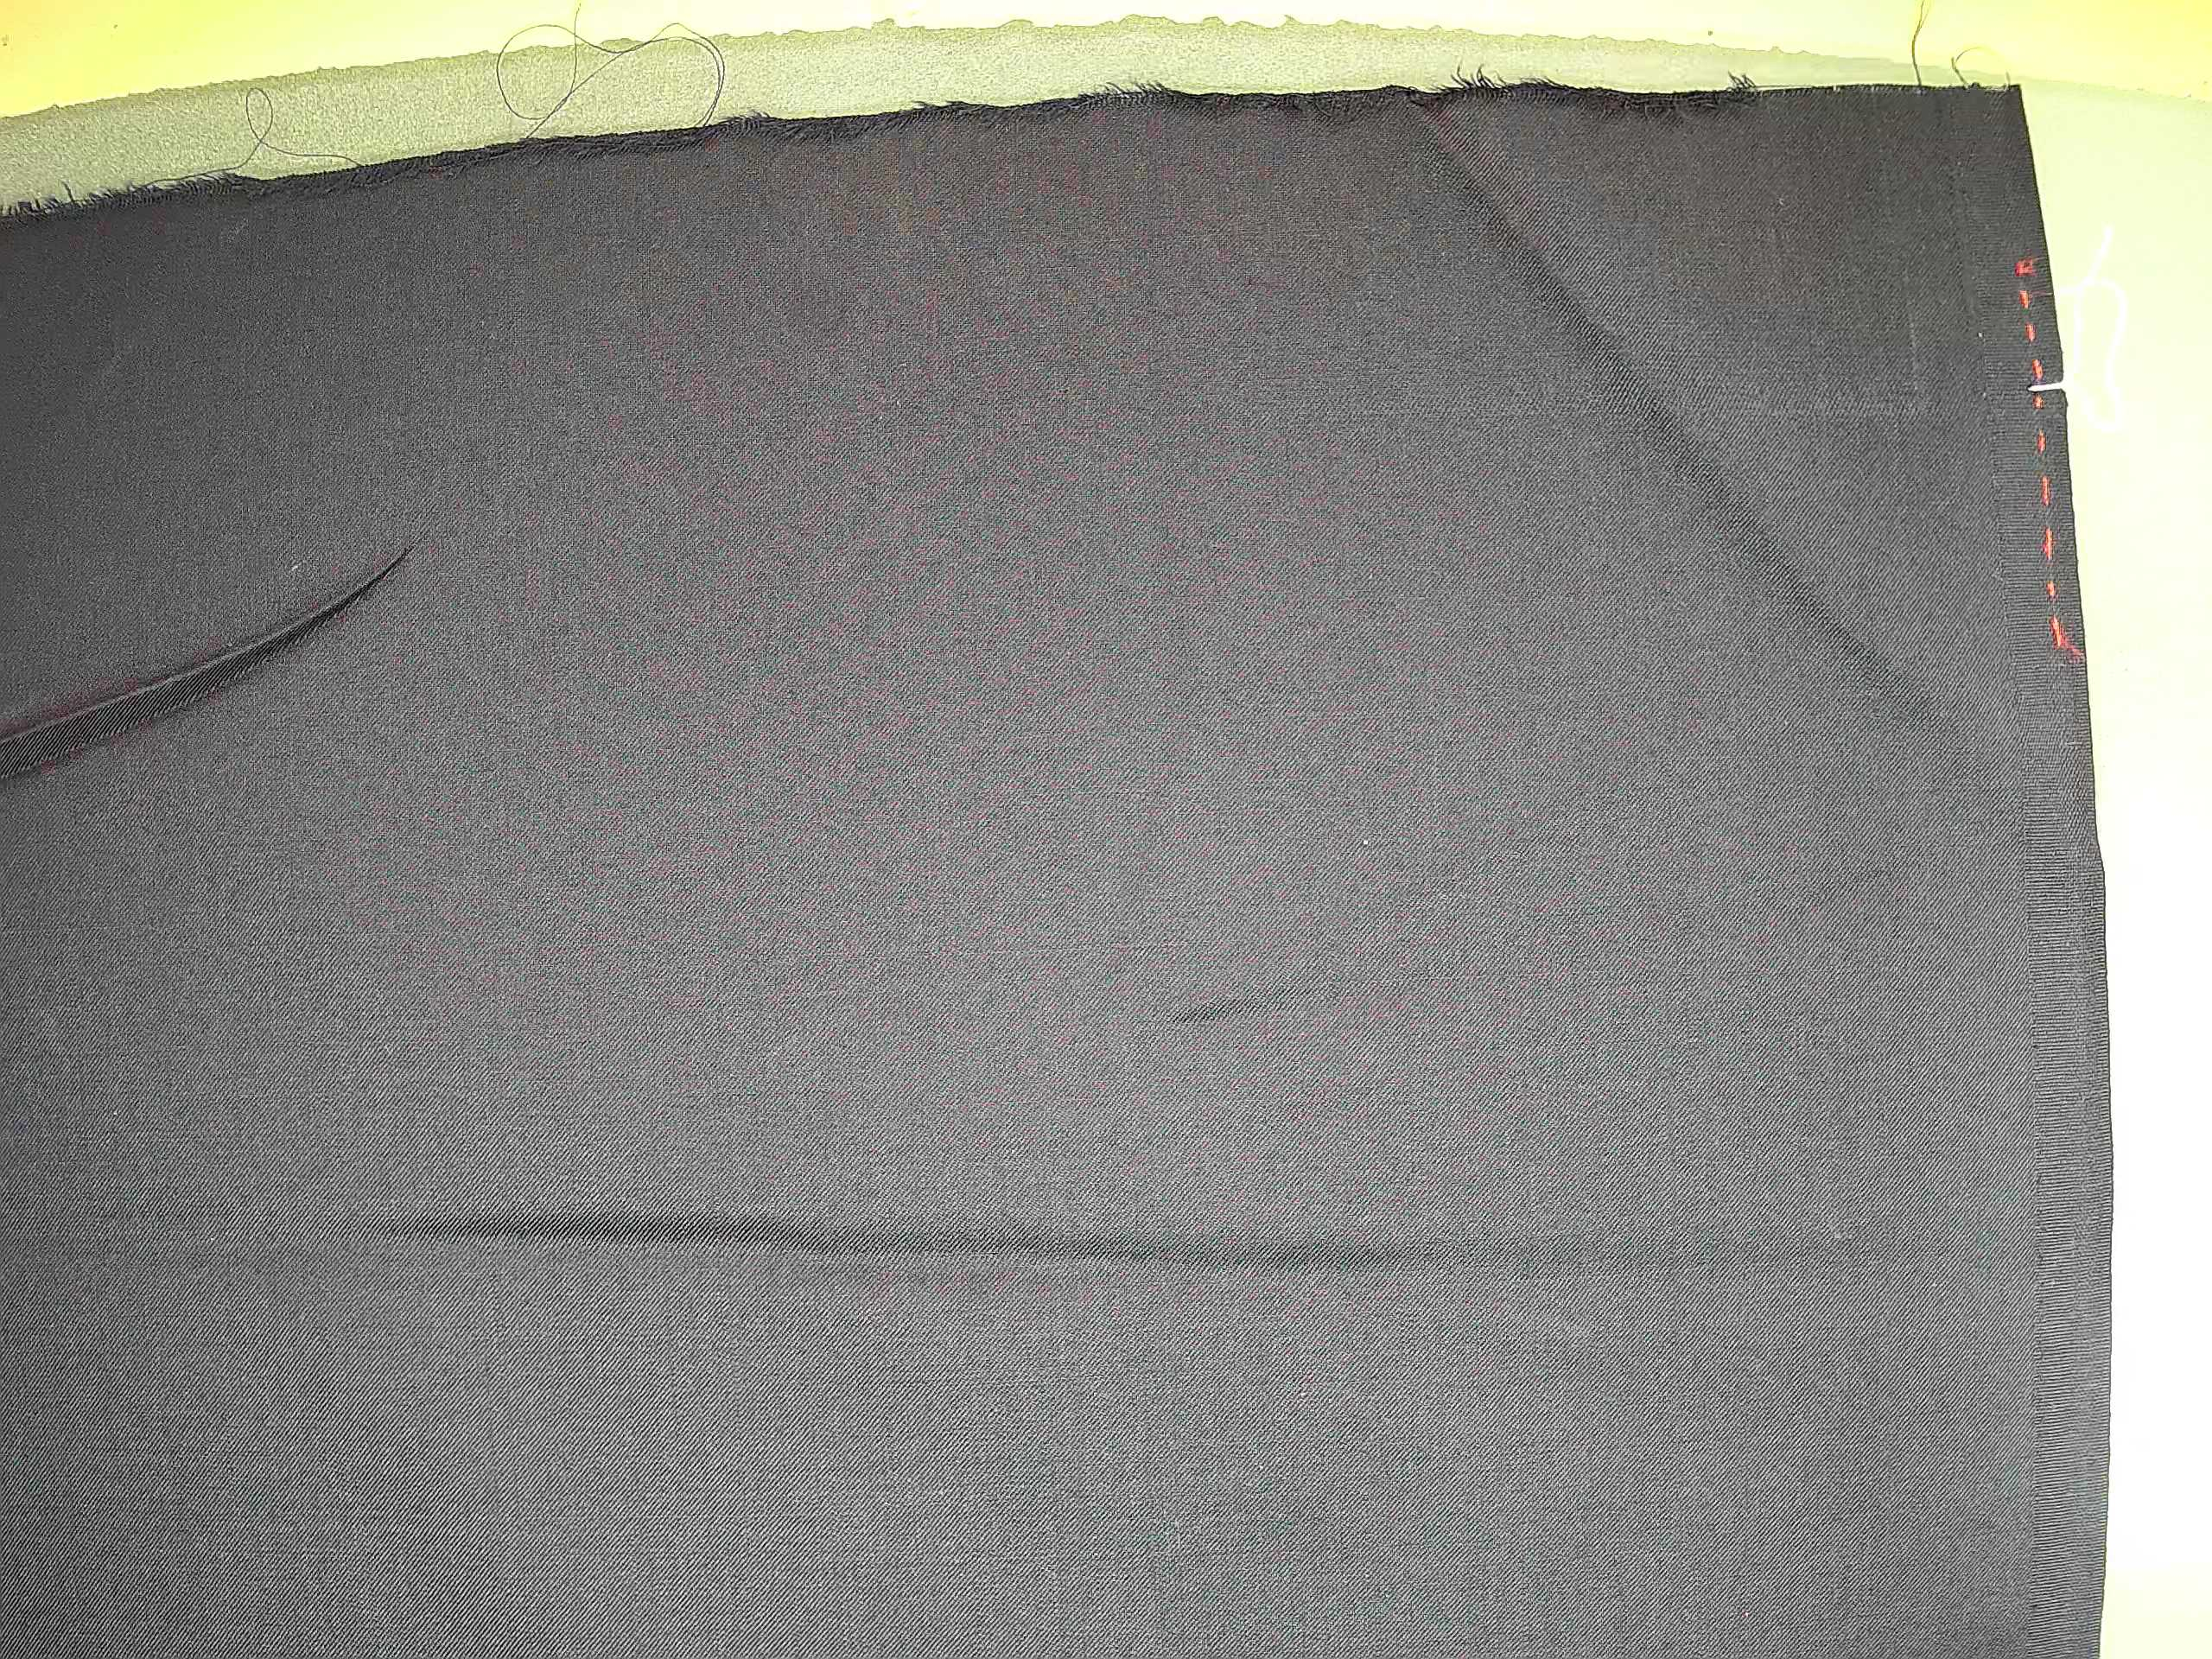thin-spinning: (1263, 373, 1996, 444)
